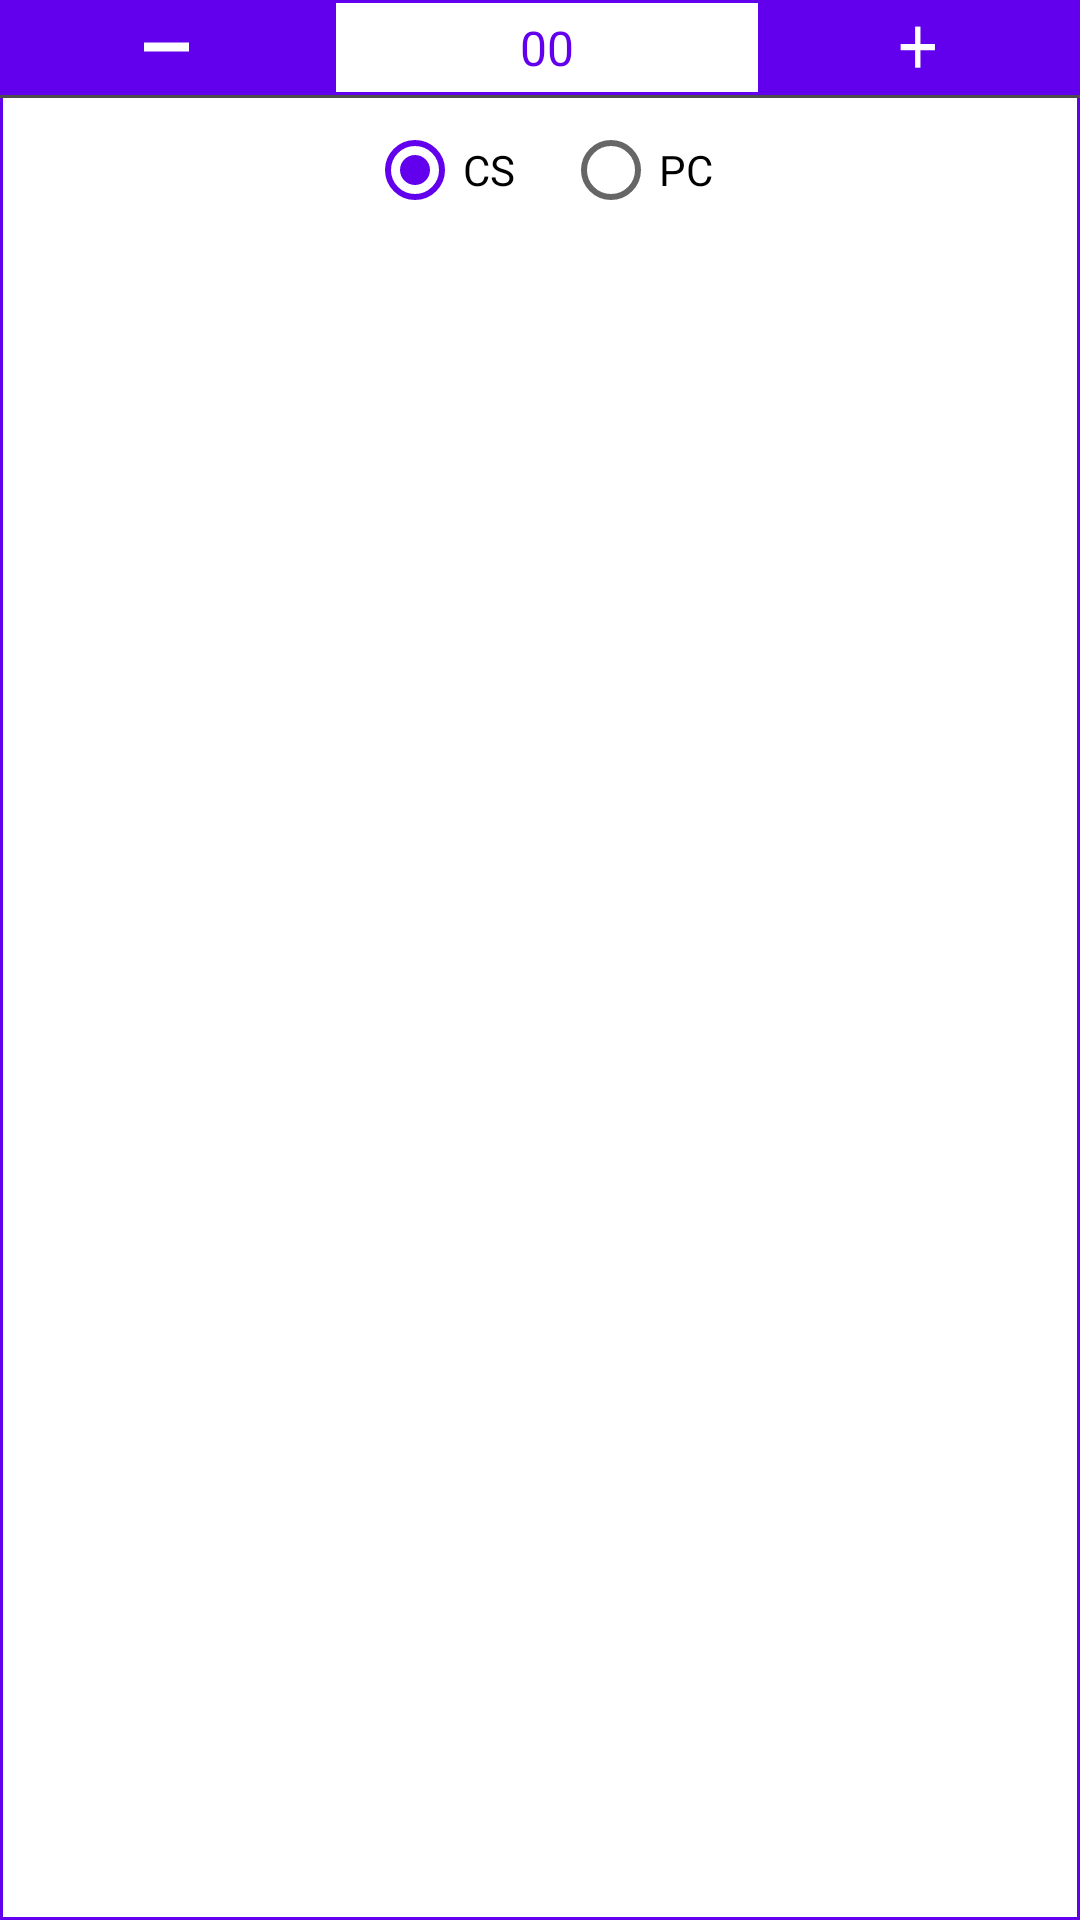

Locate icon controls on the screen. Image size 1080px×1920px, boxes as (x1, y1, x2, y2).
minu: (144, 42, 189, 52)
plus: (900, 26, 935, 68)
